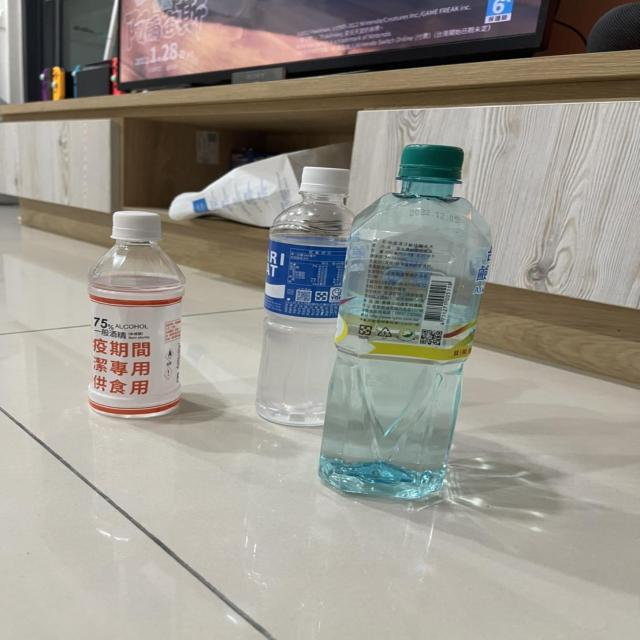bottle: (311, 138, 498, 498), (252, 158, 372, 428), (81, 210, 189, 419)
